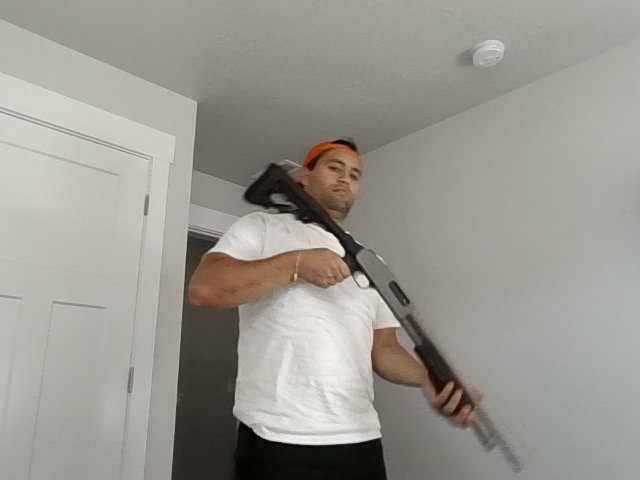shotgun: (244, 157, 524, 475)
